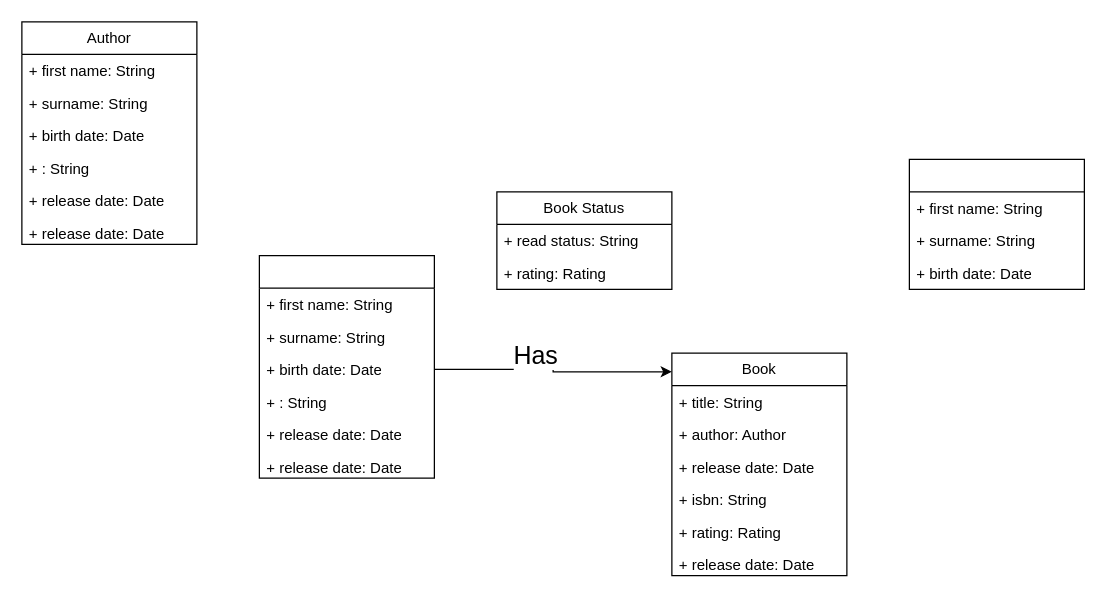
Some shapes in this 1106 by 601 pixel diagram are drawn without their labels. Here are the shapes that lost their labels. From the top down, the box of each, then its label:
(908, 158, 1084, 289): Rating
(258, 254, 434, 478): Reader
